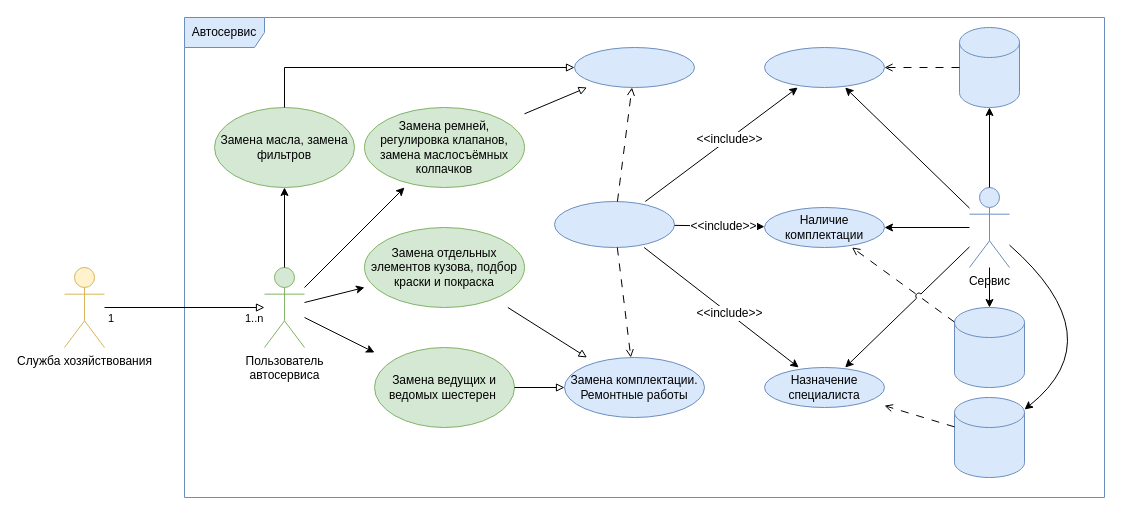
Some shapes in this 1122 by 515 pixel diagram are drawn without their labels. The centre of each missing label's shape, as x and y in pixels:
"База запчастей" belongs at point (989, 347).
"Обслуживание транспорта" belongs at point (634, 67).
"Поддержка марки" belongs at point (824, 67).
"Предварительные работы" belongs at point (614, 224).
"Рабочие марки" belongs at point (989, 67).
"Штат работников" belongs at point (989, 437).
